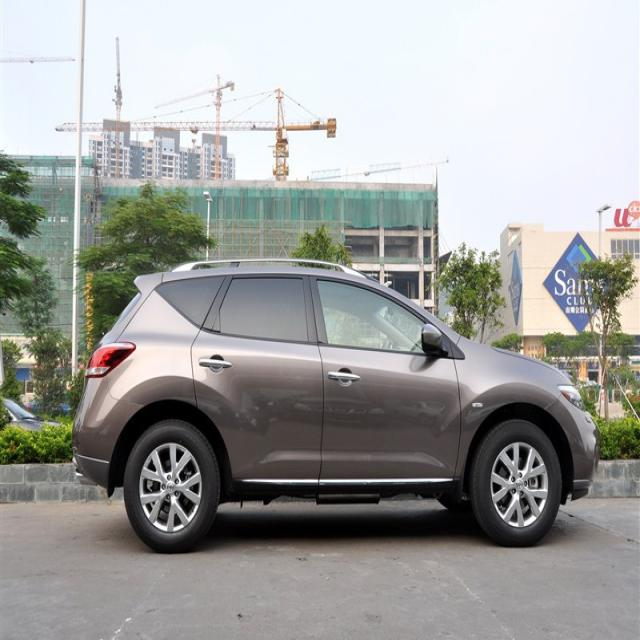back_right_side_light: (86, 340, 137, 378)
door: (186, 270, 326, 486)
front_bumper: (542, 396, 600, 493)
front_right_side_door: (308, 269, 462, 494)
front_right_side_light: (554, 379, 586, 412)
front_right_side_mirror: (418, 320, 445, 360)
rear_bumper: (72, 374, 146, 491)
wheel: (124, 418, 220, 554), (473, 419, 561, 544)
